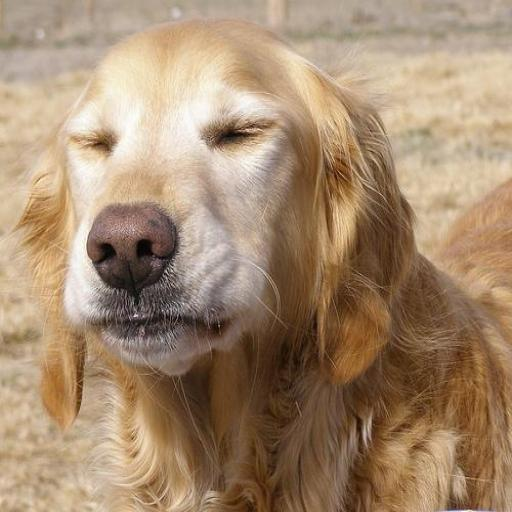dog_face: (26, 27, 395, 414)
